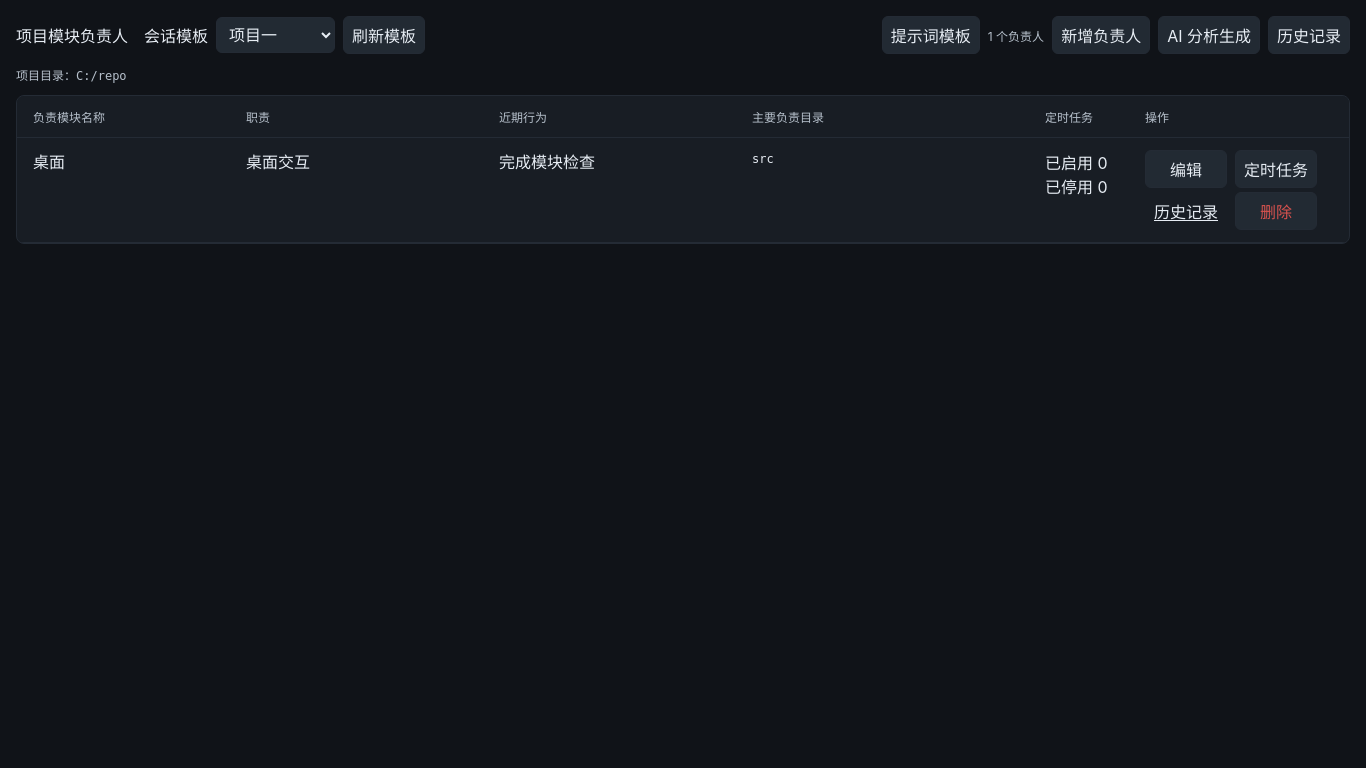
Test: module owner workspace › requires explicit deletion confirmation and sends the displayed record version
The image size is (1366, 768).
Click the button with aria-label "删除 桌面" at (1276, 211), box [1235,192,1317,230]
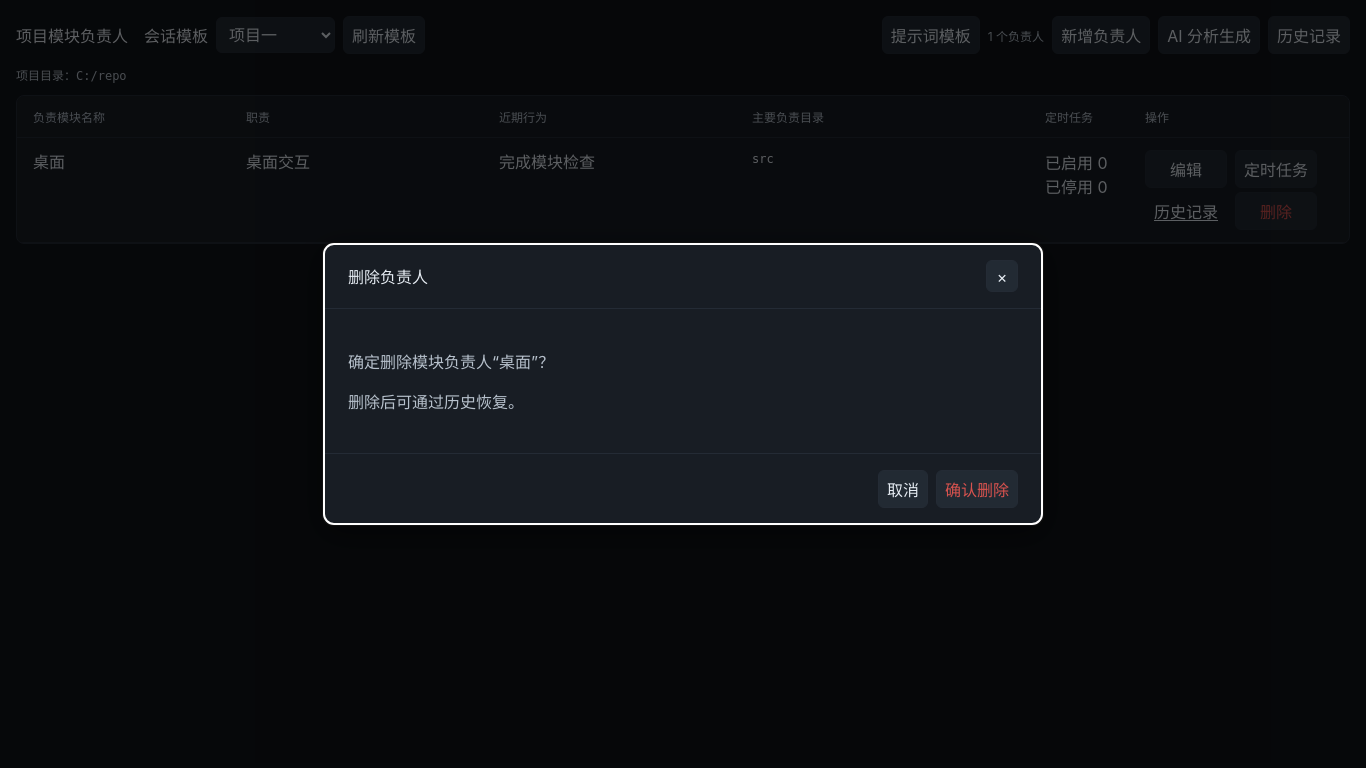
Click the button "取消" at (903, 489), box [878,470,928,508]
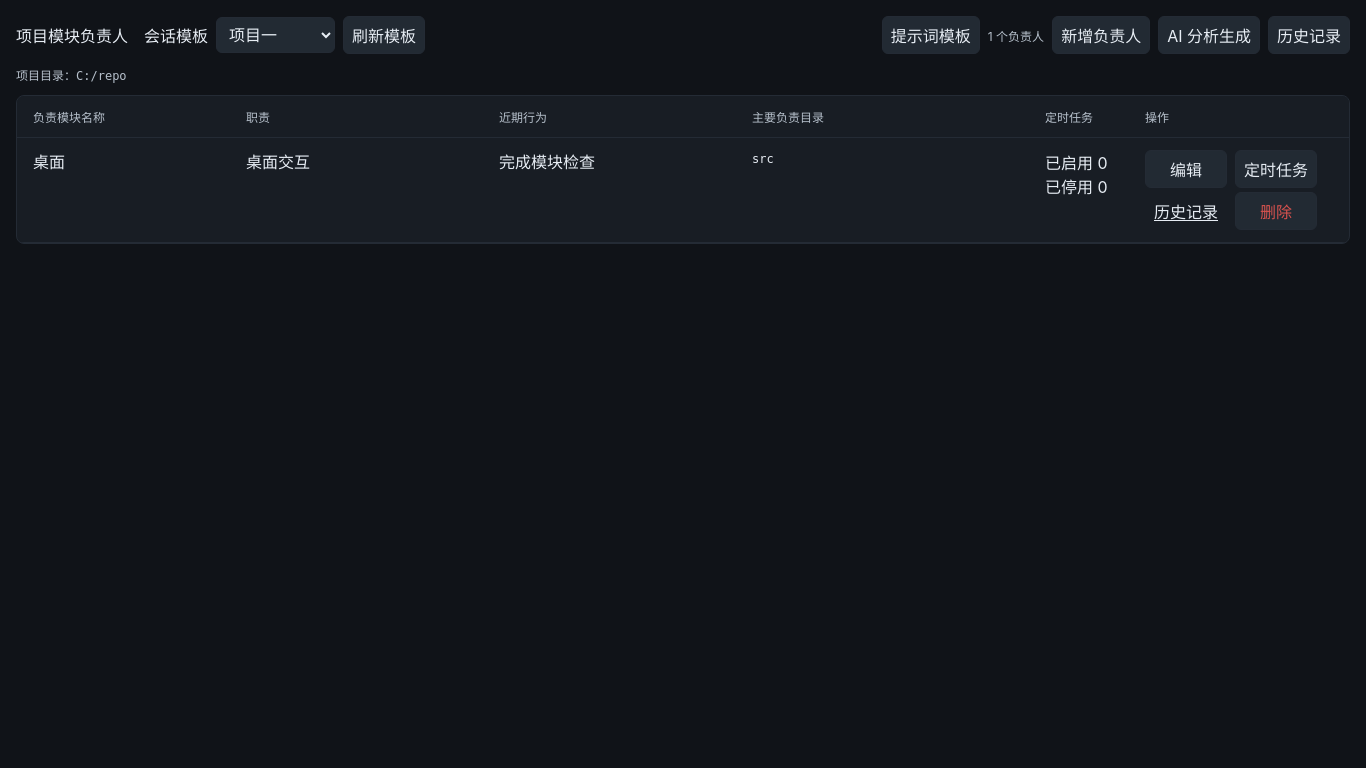
Click the button with aria-label "删除 桌面" at (1276, 211), box [1235,192,1317,230]
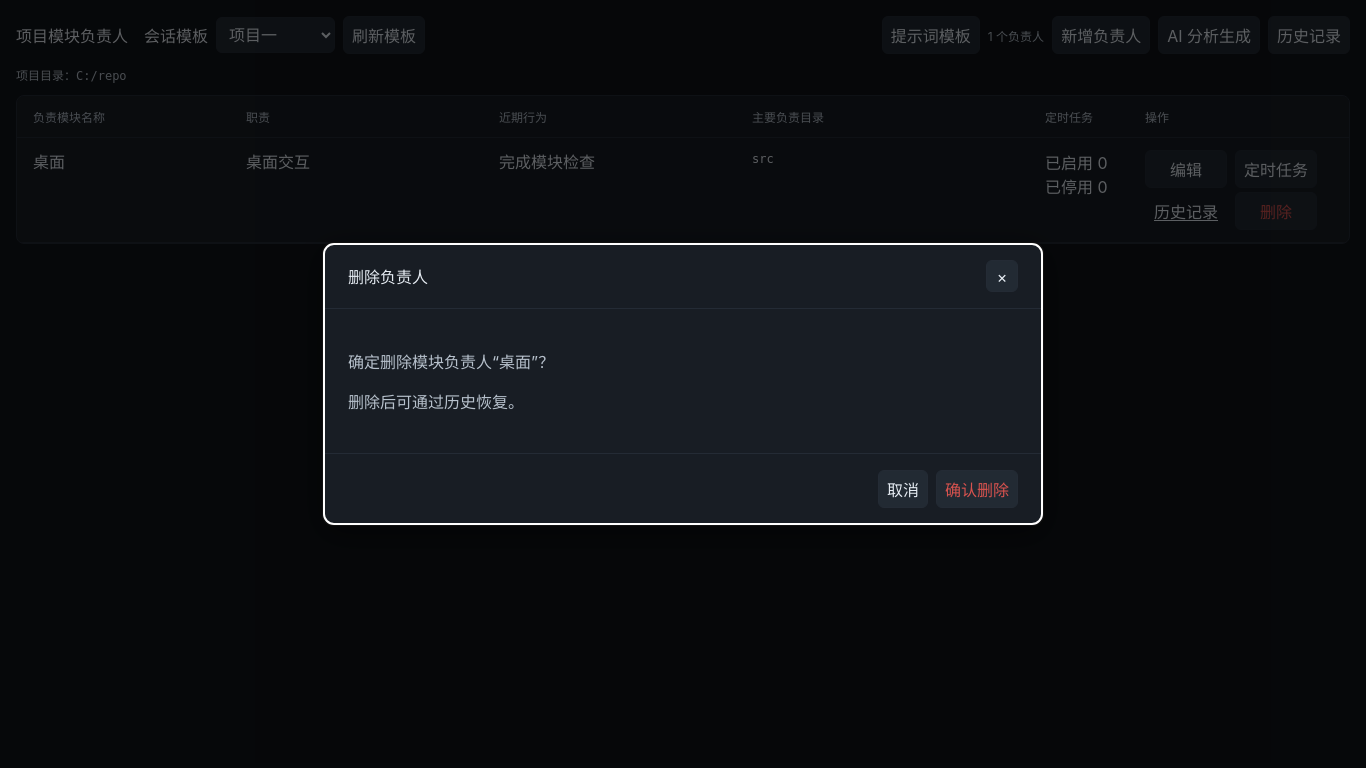
Click the button "确认删除" at (977, 489), box [936,470,1018,508]
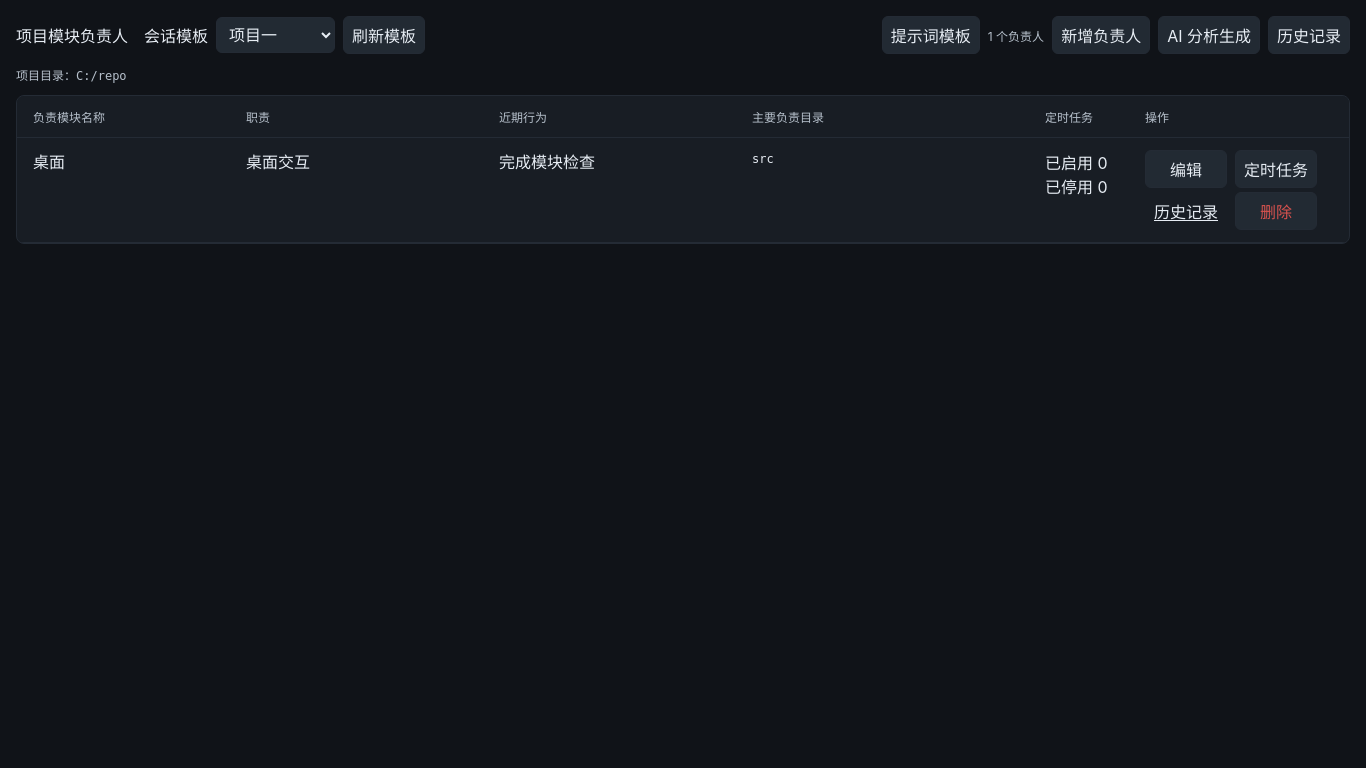
Expected: the dialog is gone
